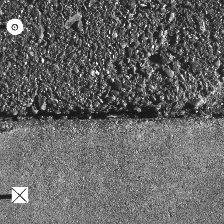circle: (6, 18, 23, 35)
crack: (1, 109, 222, 124)
square: (11, 187, 27, 202)
